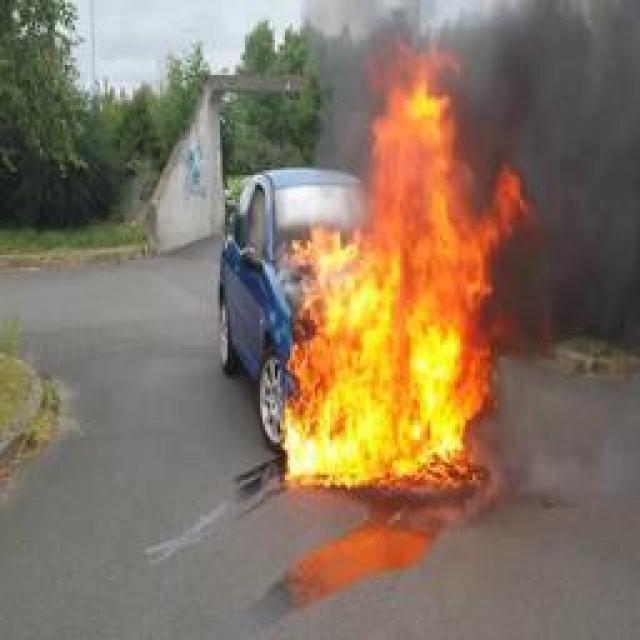Fire: (280, 41, 535, 481)
